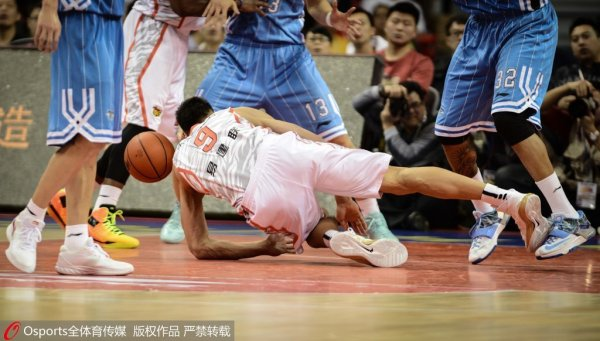10+: (7, 1, 599, 294)
down: (167, 95, 550, 271)
